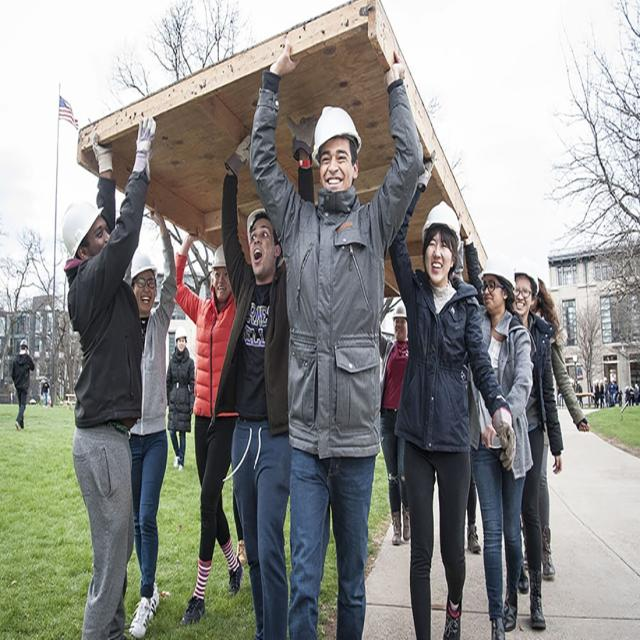body: (244, 28, 428, 639), (380, 145, 518, 639), (209, 109, 318, 640), (58, 109, 160, 639), (462, 226, 565, 633), (173, 229, 245, 627), (464, 246, 536, 640), (123, 204, 179, 638), (521, 276, 592, 582), (374, 302, 414, 546), (166, 326, 196, 472), (10, 338, 35, 432), (462, 452, 483, 560), (230, 450, 248, 572), (555, 378, 578, 408), (40, 375, 50, 409), (576, 379, 585, 409), (602, 376, 610, 409), (611, 379, 618, 408), (599, 380, 605, 410), (594, 379, 600, 408), (627, 386, 635, 407), (624, 385, 630, 407), (634, 384, 640, 405), (617, 388, 623, 406)
